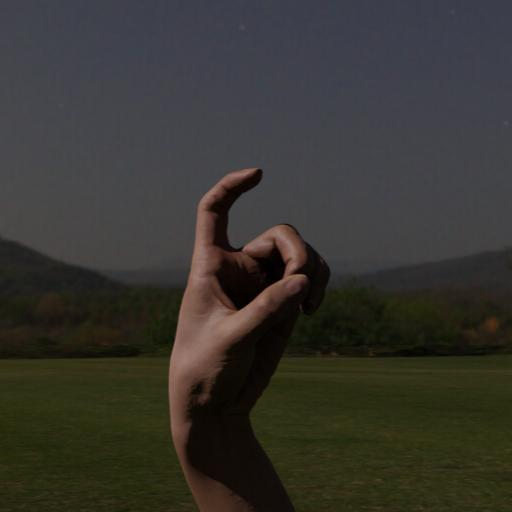X: (163, 153, 334, 441)
